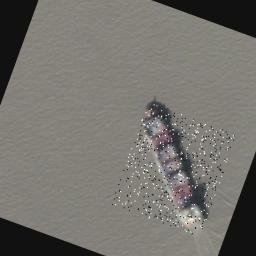boat: (110, 102, 238, 237)
